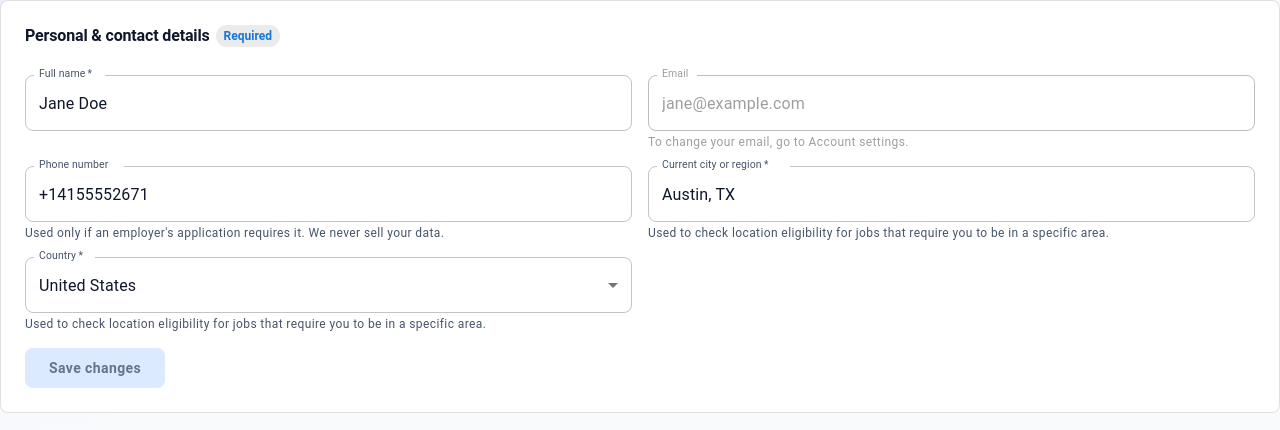
it: PersonalContactSection AA-021 › shows partial-failure toast when profile save fails after user save
Replace the text in the field labelled "Current city or region *" with "Denver, CO" at (952,194), box [648,166,1255,222]
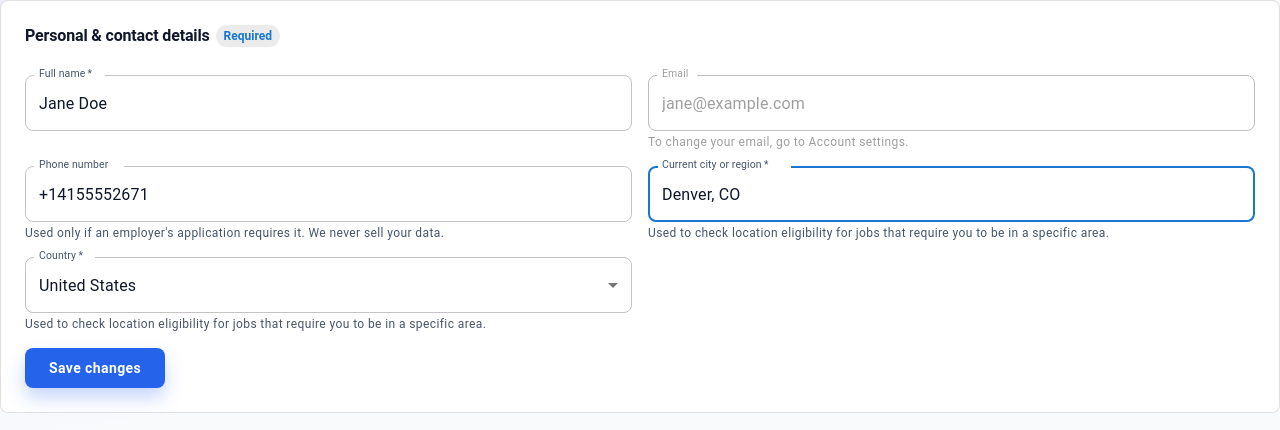
Click the button "Save changes" at (95,368), box [25,348,165,388]
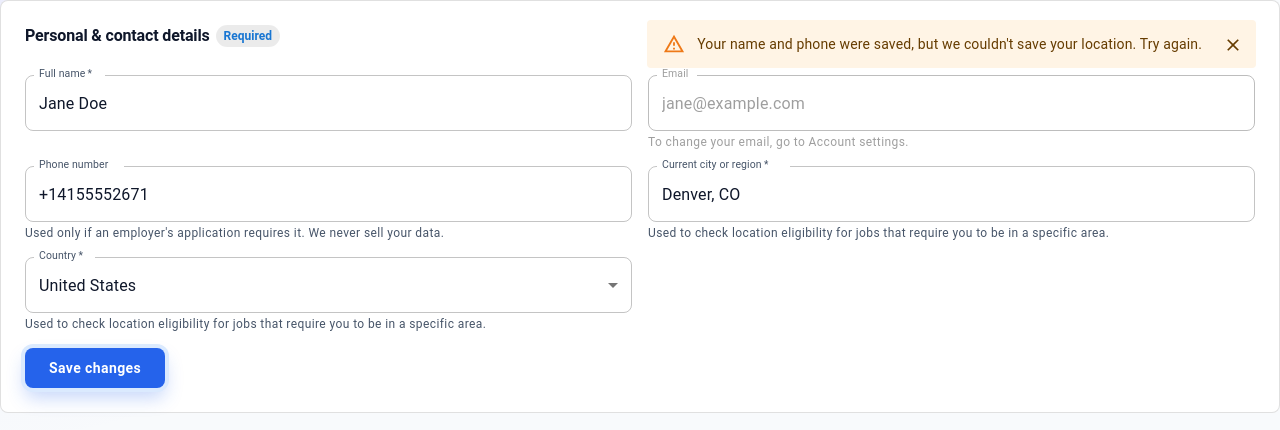
Expected: the text "Your name and phone were saved, but we couldn't save your location. Try again." is shown, [697,36,1202,52]
